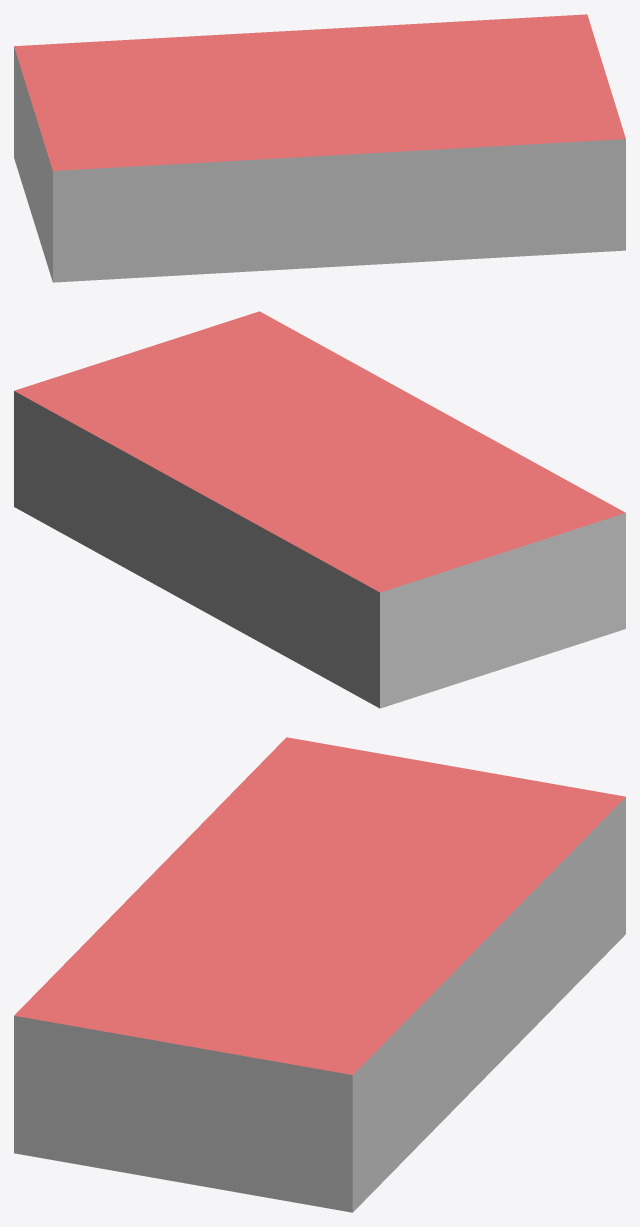
Rendered from DEBY_LOD2_8568391.gltf.
The picture shows the model from 3 angles, top to bottom: view 1: azimuth 30°, elevation 25°; view 2: azimuth 150°, elevation 25°; view 3: azimuth 270°, elevation 25°; orthographic projection. The views are drawn at different scales.
Visible parts, largest first — view 1: Z_UP; view 2: Z_UP; view 3: Z_UP.
Boxes of the visible parts, x1=… form: Z_UP: x1=14, y1=14, x2=625, y2=282; Z_UP: x1=14, y1=311, x2=625, y2=708; Z_UP: x1=14, y1=737, x2=625, y2=1212.
Size of the model in its own units: 11.94 by 2.27 by 9.14.
